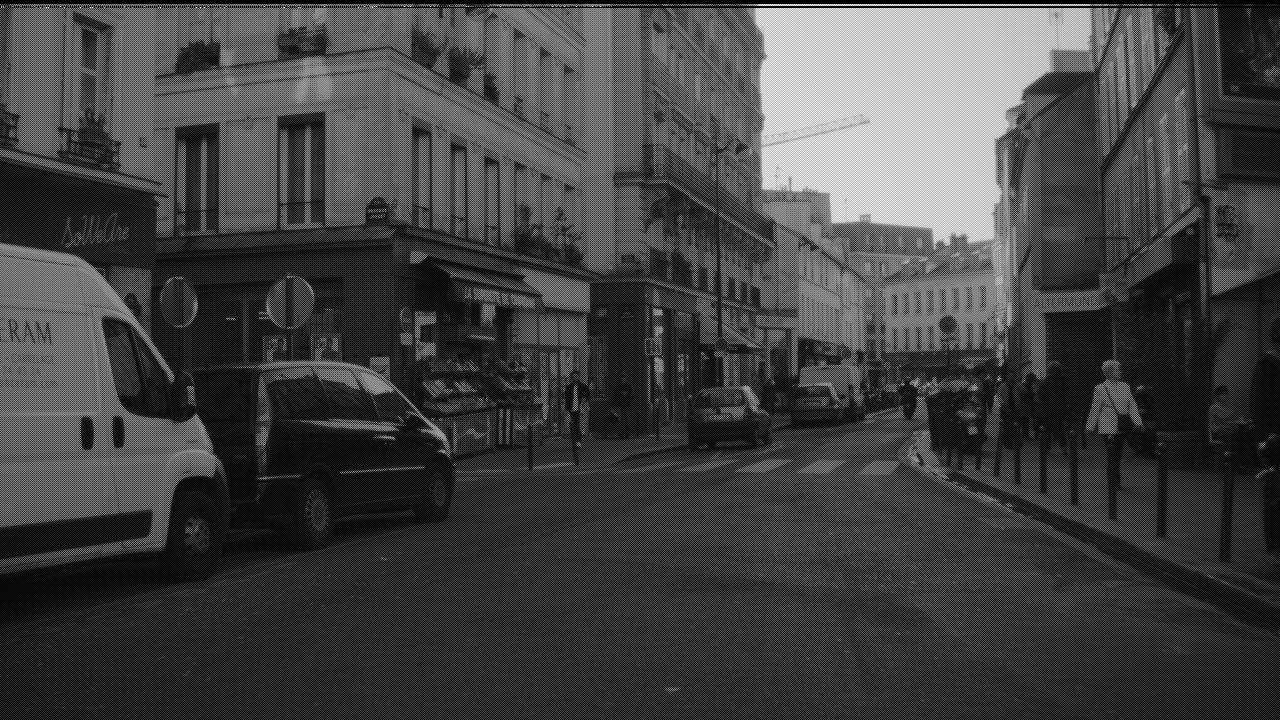pole: (713, 143, 723, 378)
